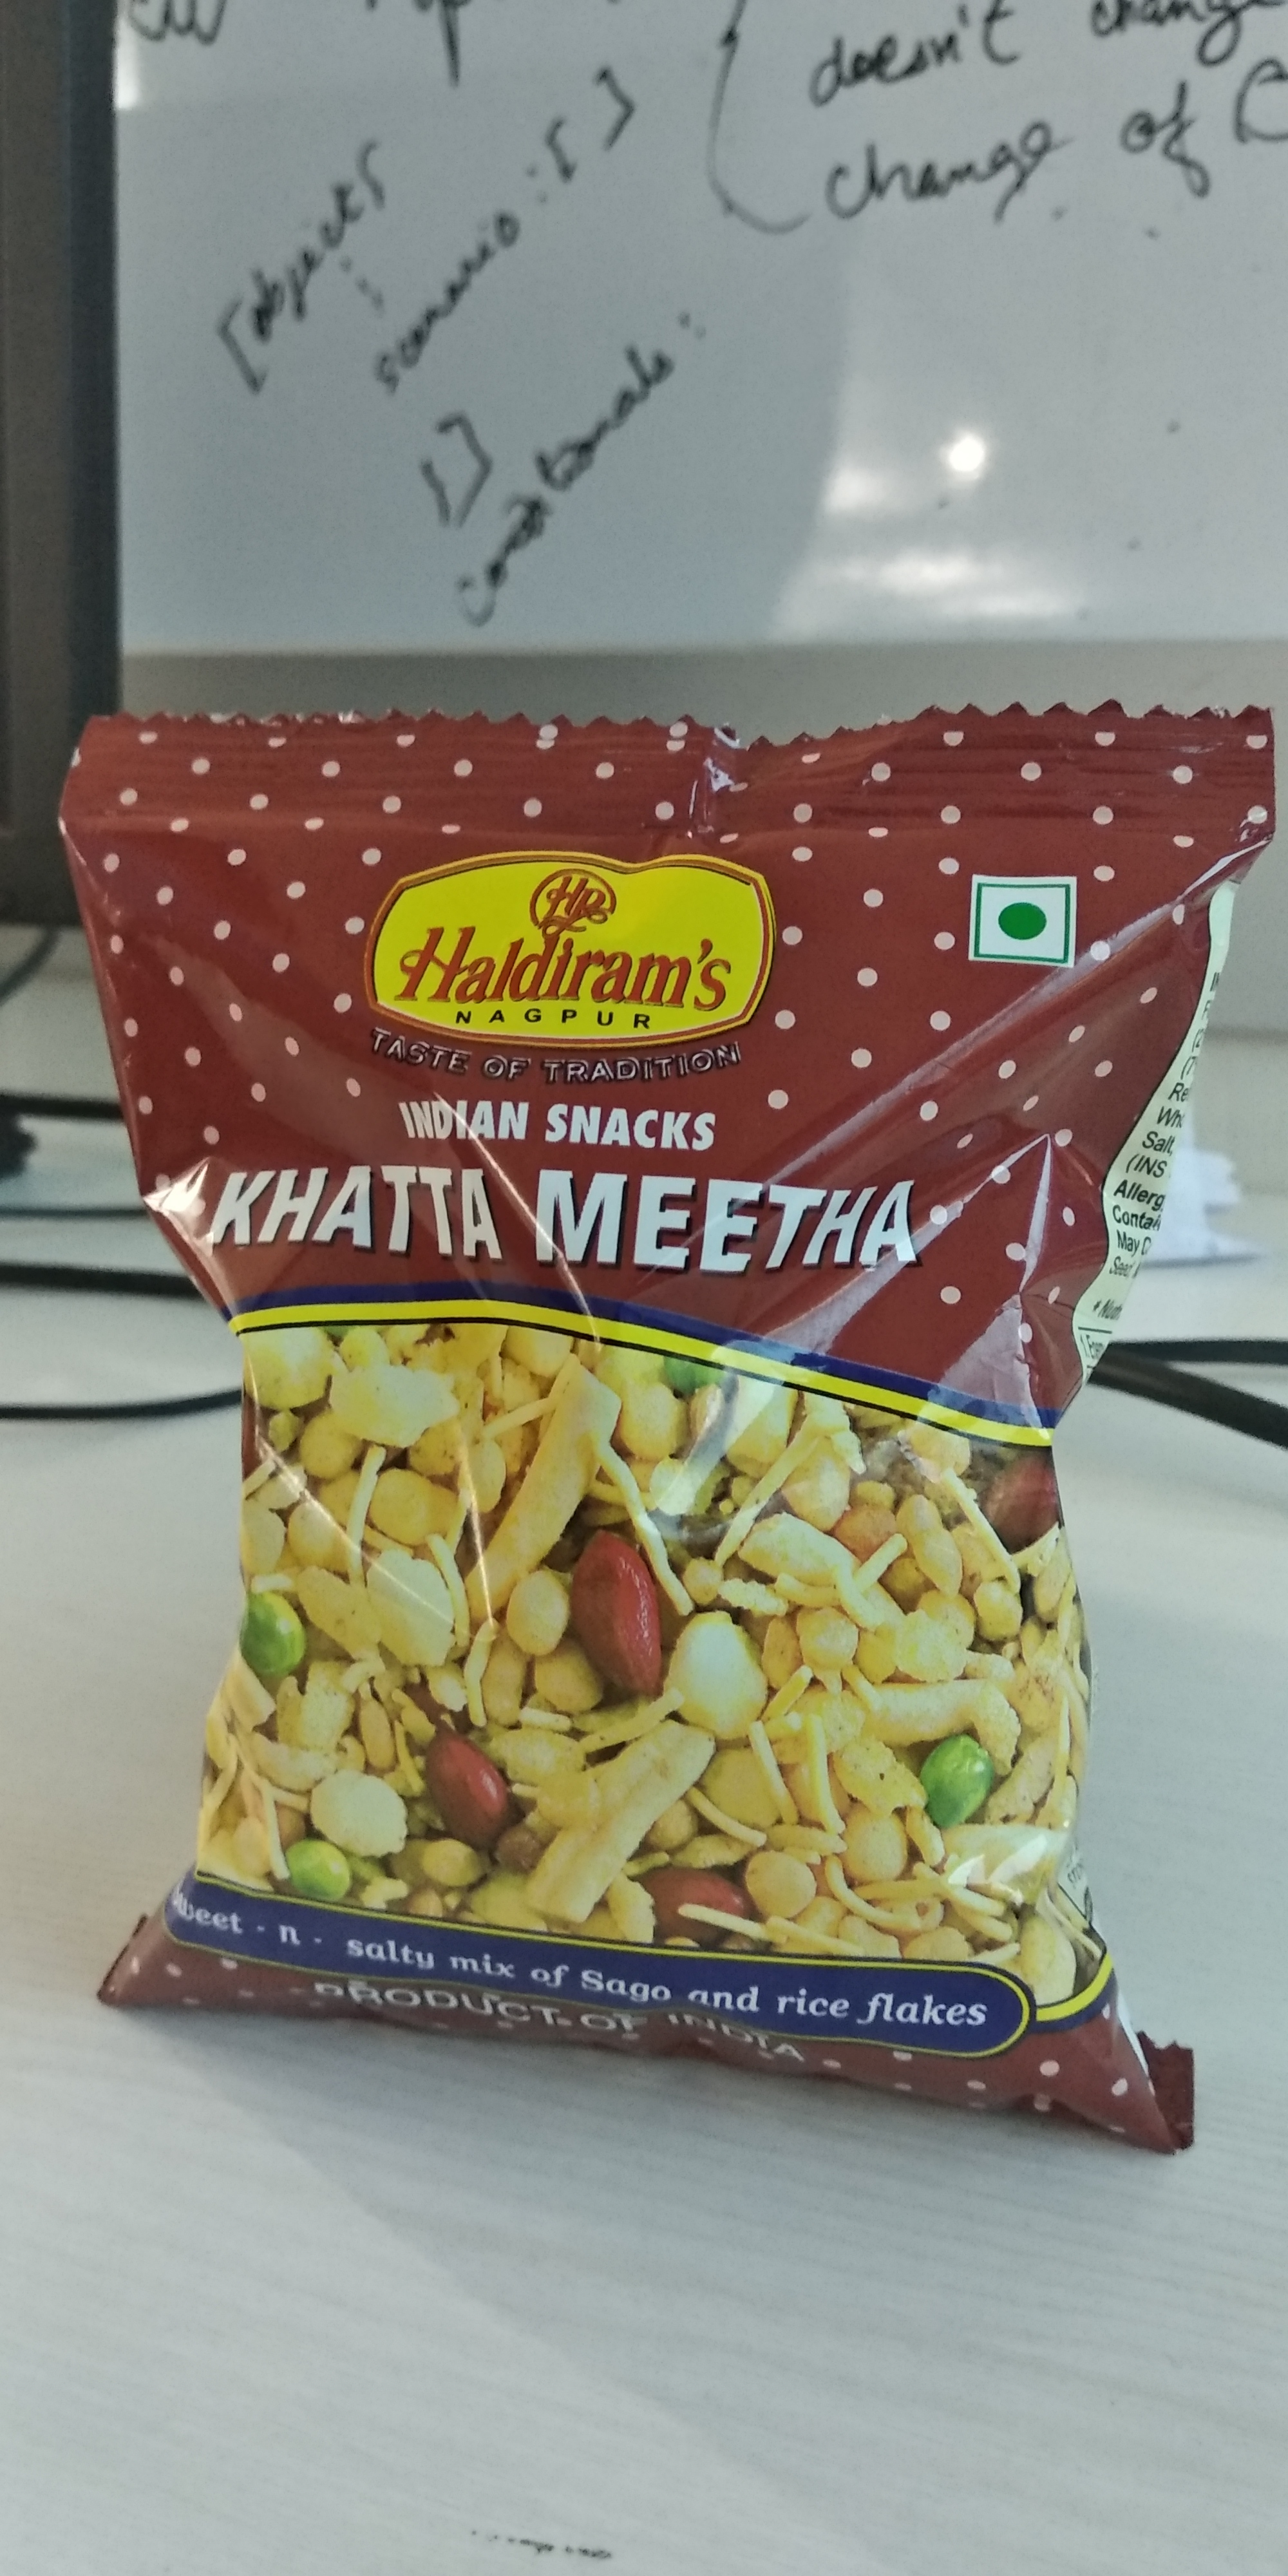khataMeetha: (54, 706, 1278, 2180)
